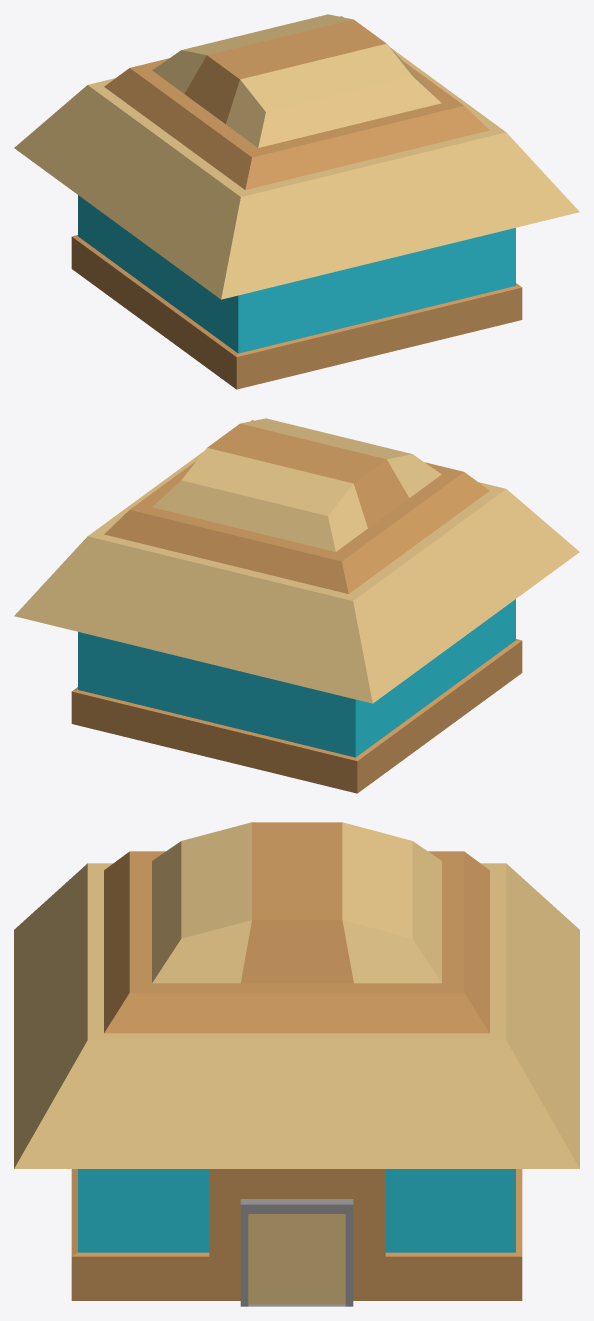
Rendered from CornerMarketSmall.fbx.
3 renders of one model, top to bottom at view 1: azimuth 30°, elevation 25°; view 2: azimuth 150°, elevation 25°; view 3: azimuth 270°, elevation 25°, orthographic. The views are drawn at different scales.
Visible parts, largest first — view 1: Cube; view 2: Cube; view 3: Cube.
Boxes of the visible parts, box(x1,y1,x2,y2) form: Cube: box(14, 14, 579, 389); Cube: box(14, 418, 579, 793); Cube: box(14, 822, 579, 1306).
Bounding box in the file's own units: 1005 × 656 × 1005.
